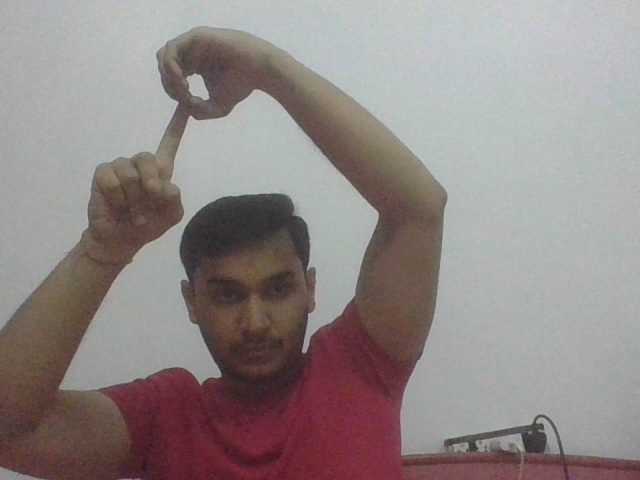Q: (119, 28, 239, 193)
